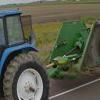Tractor: (5, 4, 100, 96)
